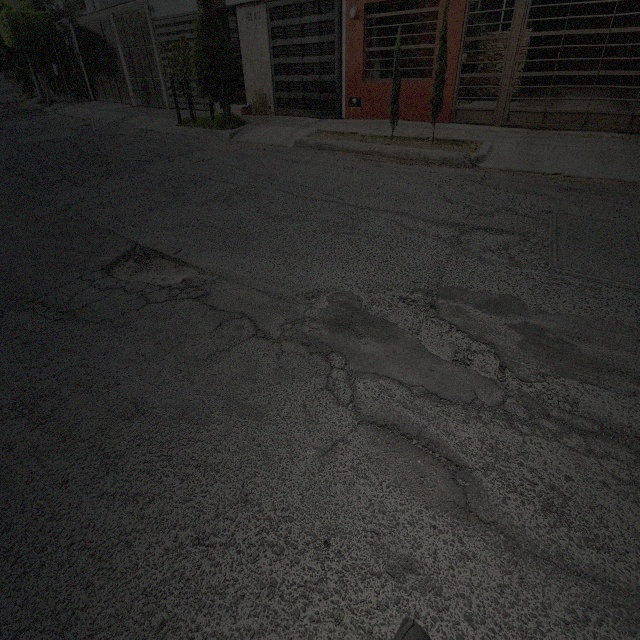pothole: (365, 285, 512, 389), (99, 238, 206, 290)
